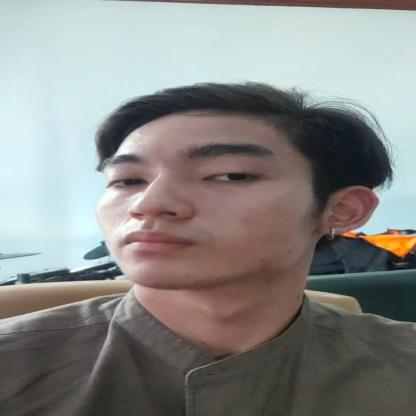Palm: (46, 59, 415, 351)
